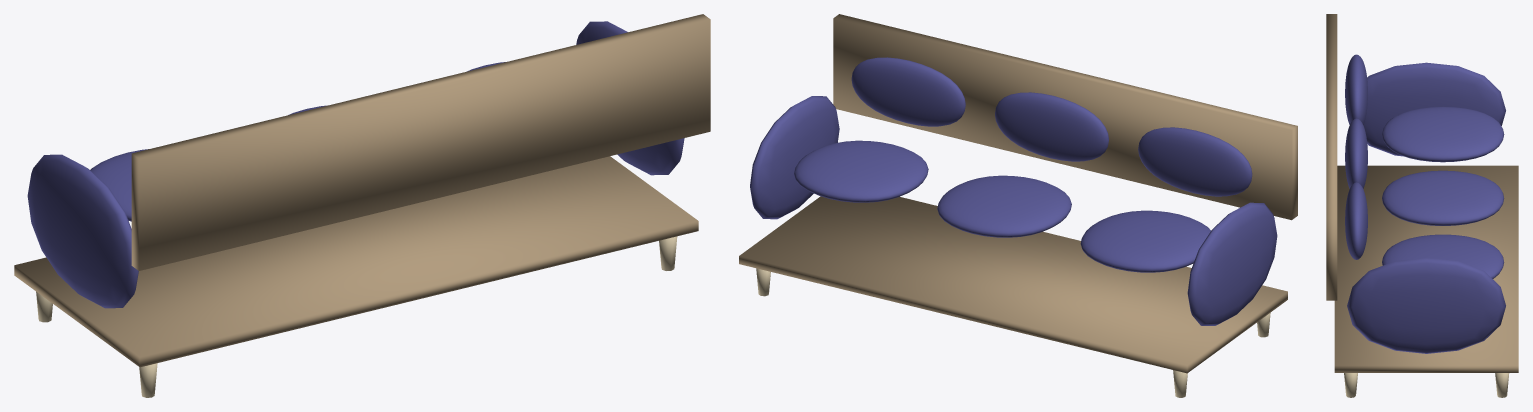
File: sofa.glb
3 views of the same model, side by side, from view 1: azimuth 30°, elevation 25°; view 2: azimuth 150°, elevation 25°; view 3: azimuth 270°, elevation 25° (orthographic). The views are drawn at different scales.
Parts seen in each view (by area): view 1: Sofa; view 2: Sofa; view 3: Sofa.
Part boxes in pixels (x1,y1,x2,y2): Sofa: (14, 14, 710, 397); Sofa: (739, 14, 1297, 397); Sofa: (1326, 14, 1518, 397).
Size of the model in its own units: 1.76 by 0.75 by 0.7.
